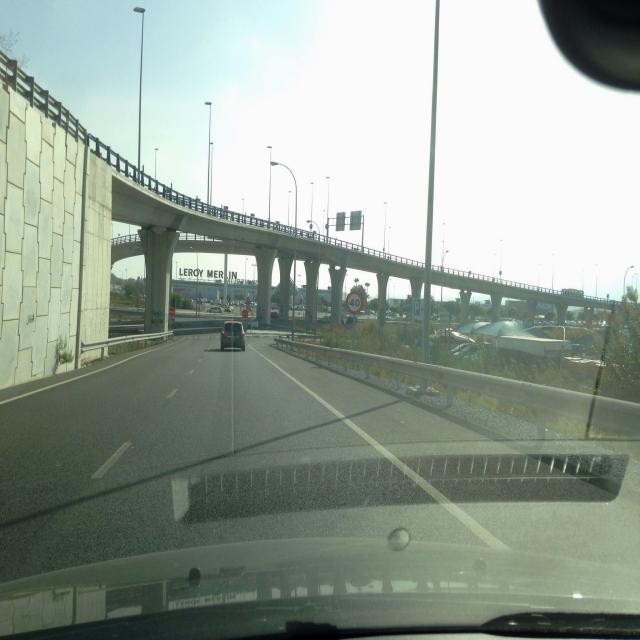car: (461, 320, 550, 370), (220, 320, 246, 352)
